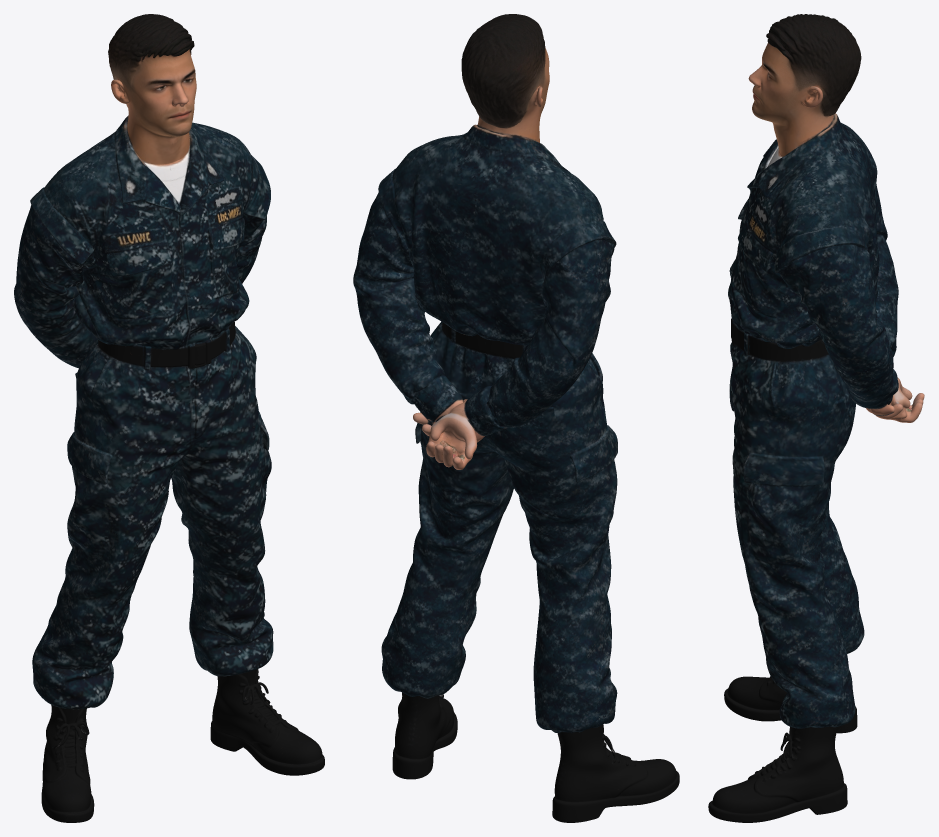
The model's file is Navy Soldier.glb.
3 renders of one model, left to right at view 1: azimuth 30°, elevation 25°; view 2: azimuth 150°, elevation 25°; view 3: azimuth 270°, elevation 25°, orthographic. The views are drawn at different scales.
Bounding box in the file's own units: 0.6966 × 1.9 × 0.4992.
1 material, 1 textured.
